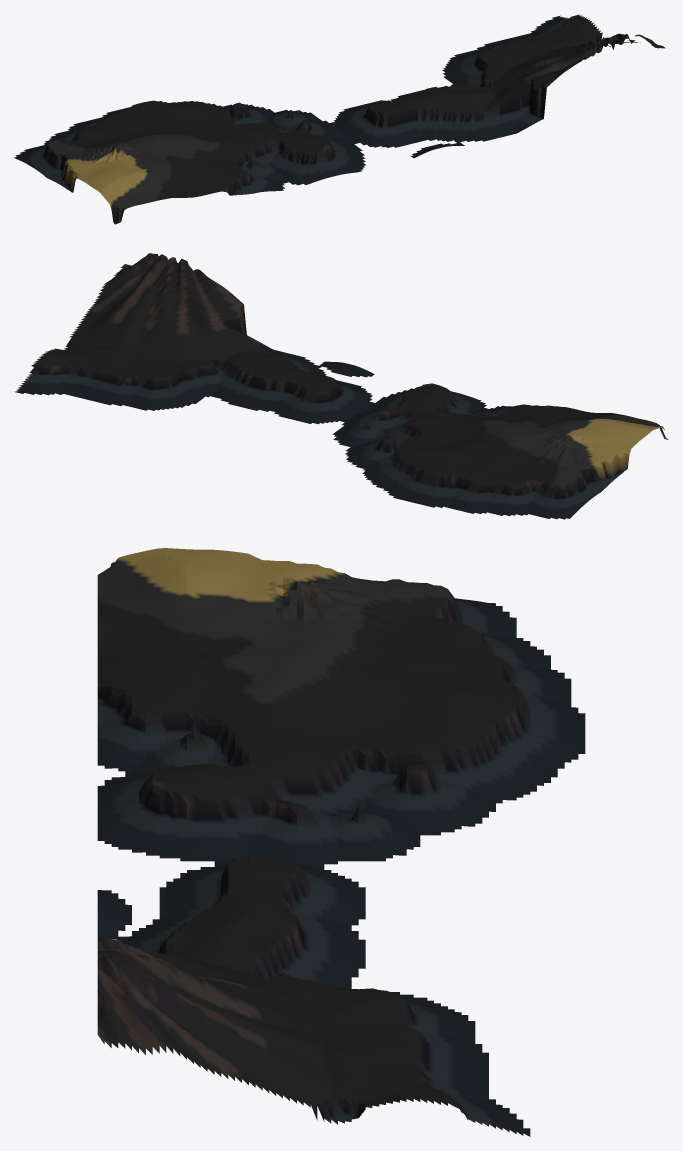
Rendered from ash_tile_x1z0.glb.
3 views of the same model, one above another, from view 1: azimuth 30°, elevation 25°; view 2: azimuth 150°, elevation 25°; view 3: azimuth 270°, elevation 25° (orthographic). The views are drawn at different scales.
Visible parts, largest first — view 1: geometry_0; view 2: geometry_0; view 3: geometry_0.
Part boxes in pixels (x1,y1,x2,y2): geometry_0: [14, 14, 665, 224]; geometry_0: [14, 253, 668, 519]; geometry_0: [97, 548, 585, 1136].
Size of the model in its own units: 1104 by 135 by 426.
